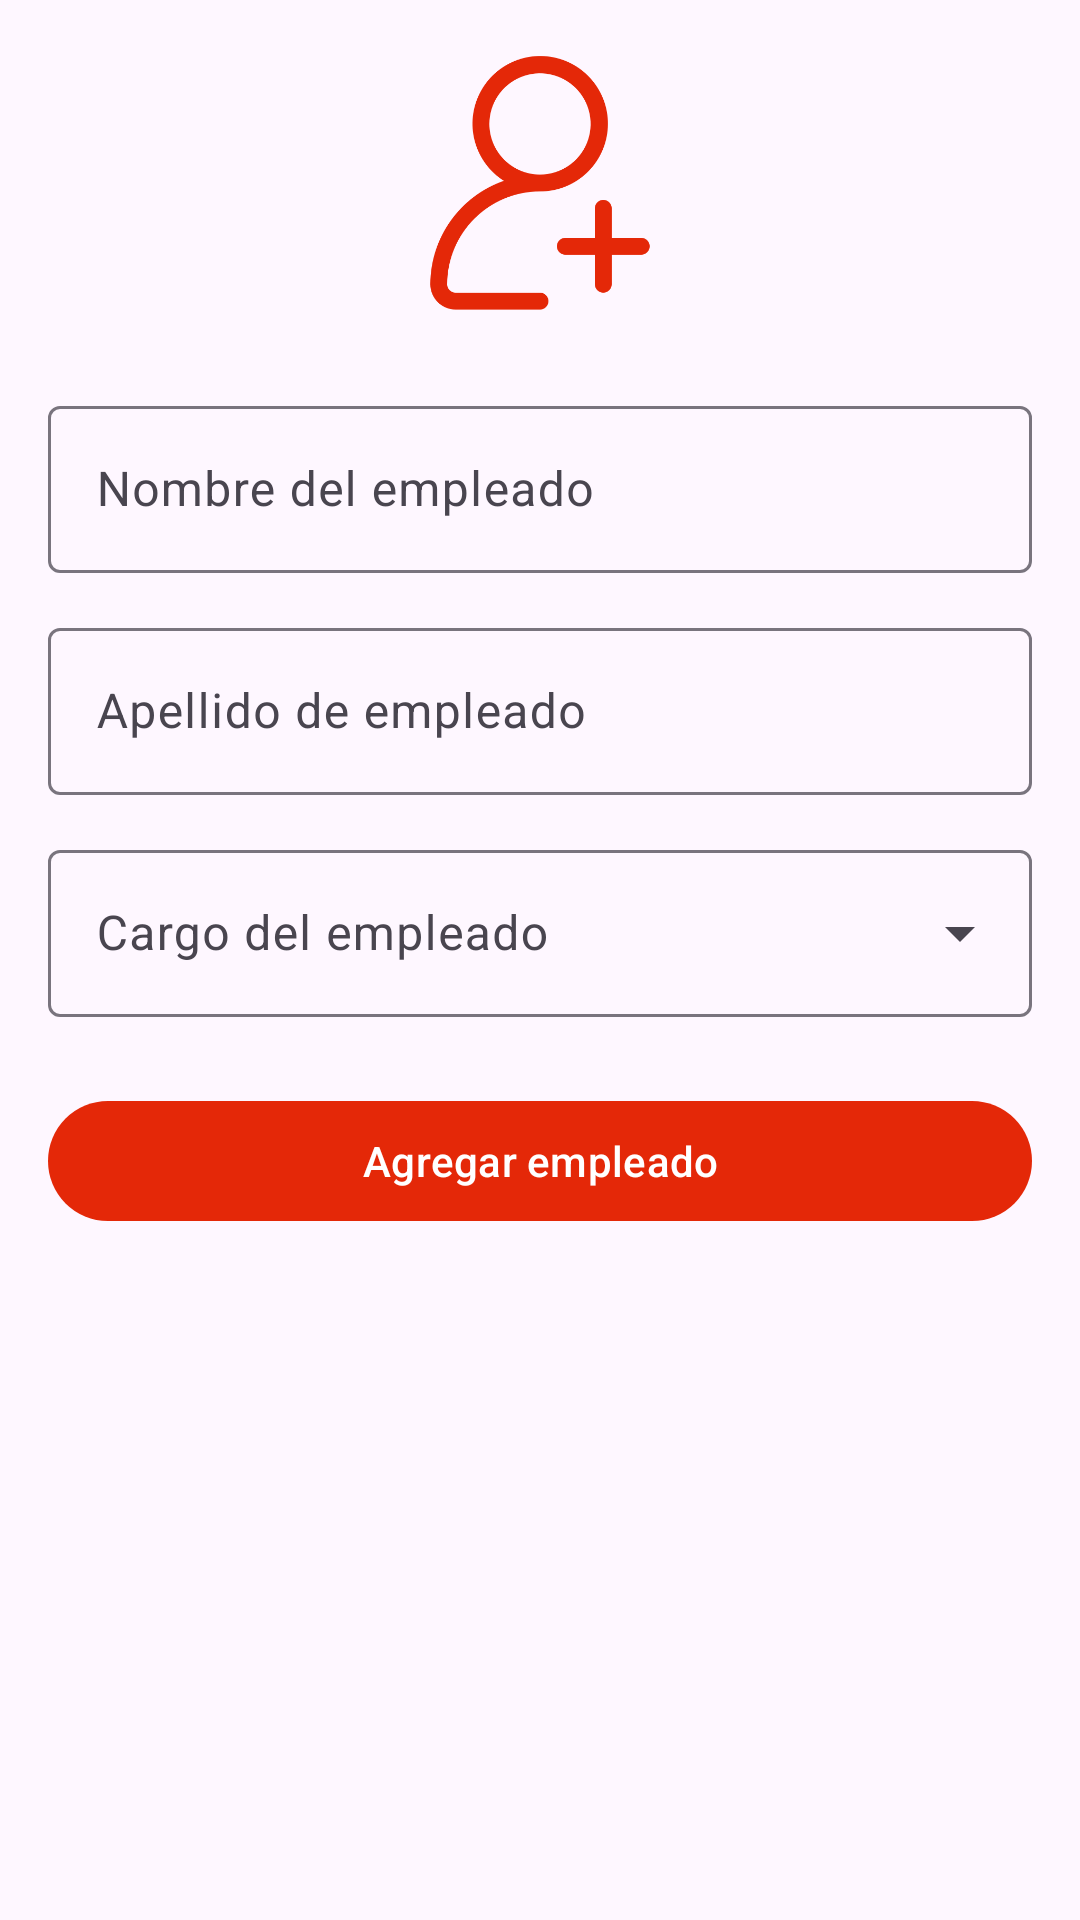

Where to tap for icons on this 1080w x 1920h app screen, as point (x, y):
add user: point (540, 183)
